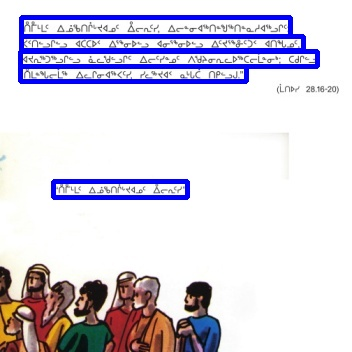inuktitut: (21, 17, 290, 36), (20, 51, 317, 66), (21, 36, 303, 50), (20, 66, 246, 81), (53, 181, 187, 197)
